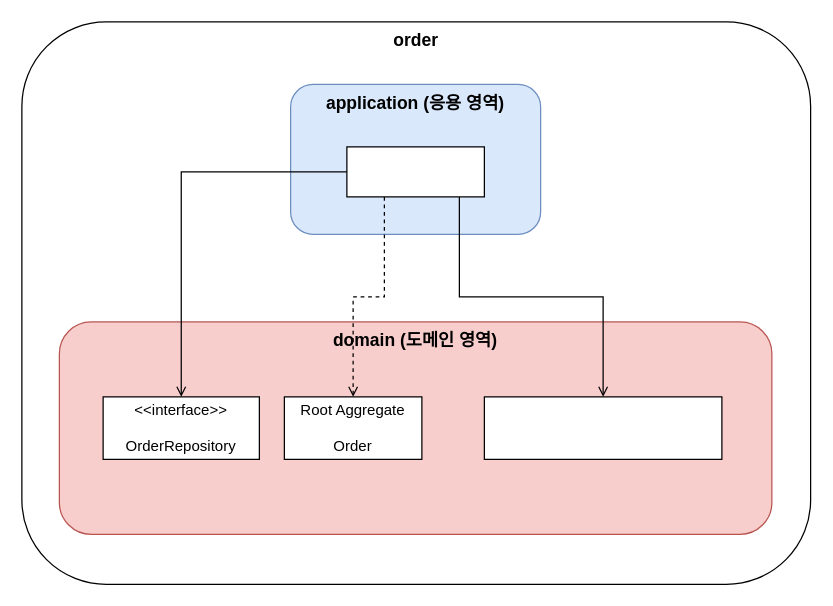
Image size: 833x606. Some labels were removed from this diagram. Each missing label, with the centre of its shape:
OrderService: (x=415, y=171)
도메인 서비스 DiscountCalculationService: (x=602, y=427)
